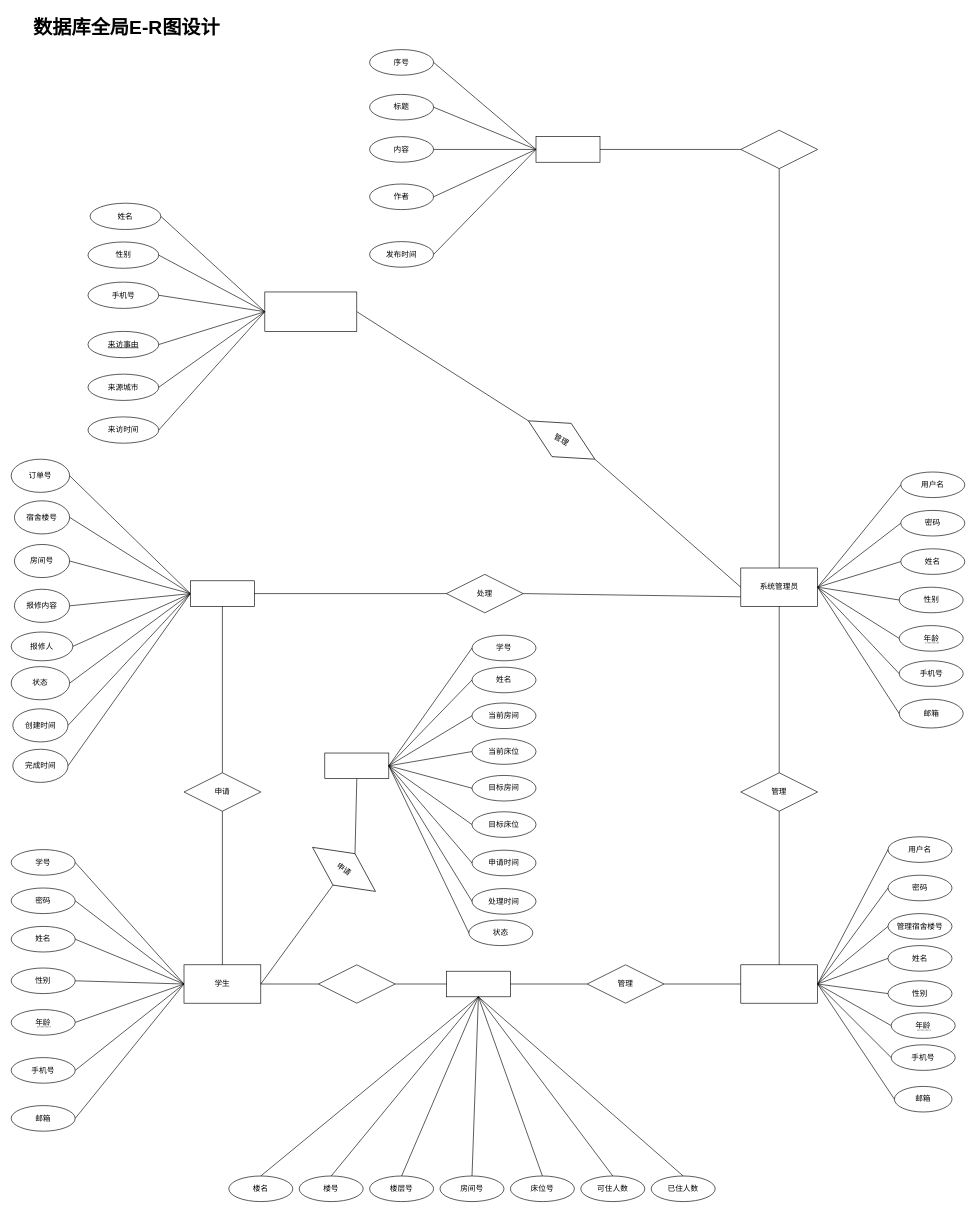
Image size: 976x1213. Some labels were removed from this diagram. Here are the shapes that lost their labels. From the top down, the centre of each, then its label:
At pixel 567 149: "公告".
At pixel 779 149: "发布".
At pixel 310 311: "访客".
At pixel 222 593: "报修".
At pixel 356 765: "调宿舍".
At pixel 356 983: "属于".
At pixel 478 984: "宿舍".
At pixel 779 983: "宿舍管理员".
